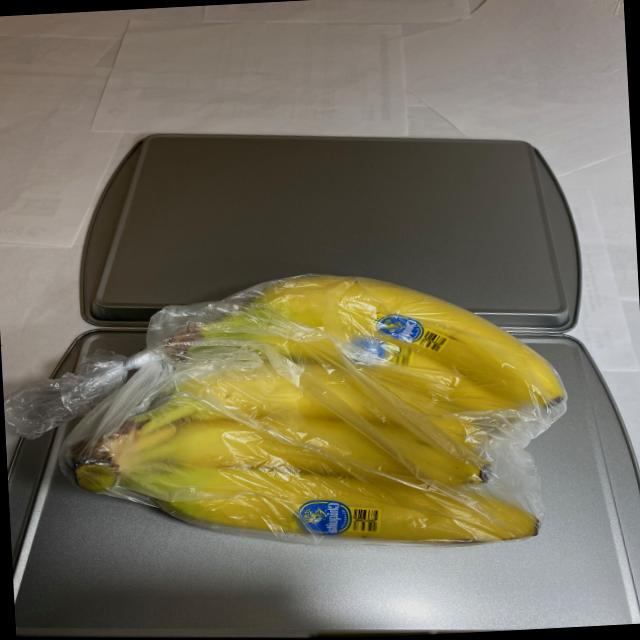banana: (51, 261, 572, 574)
